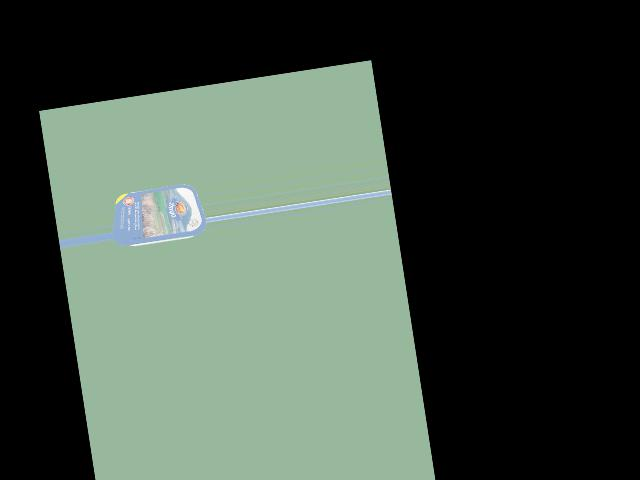cheese: (116, 180, 202, 254)
